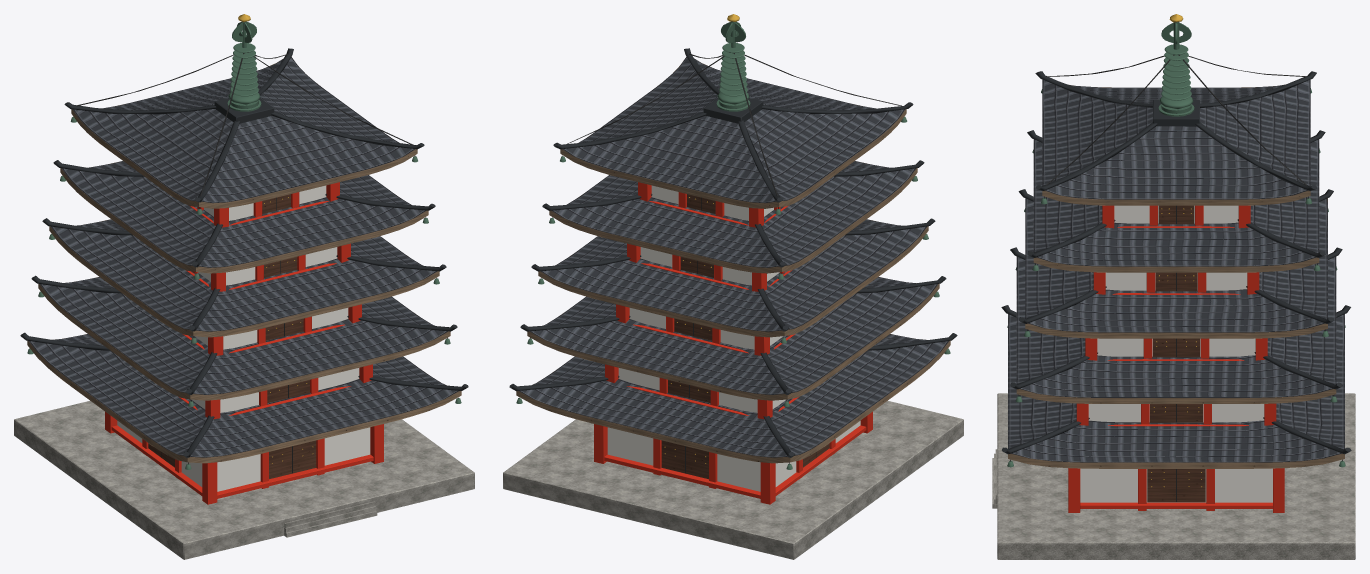
The model's file is build-red-pagoda.glb.
3 renders of one model, left to right at view 1: azimuth 30°, elevation 25°; view 2: azimuth 150°, elevation 25°; view 3: azimuth 270°, elevation 25°, orthographic. The views are drawn at different scales.
Parts seen in each view (by area): view 1: build-red-pagoda-Five_Story_Pagoda; view 2: build-red-pagoda-Five_Story_Pagoda; view 3: build-red-pagoda-Five_Story_Pagoda.
Part boxes in pixels (<box>): build-red-pagoda-Five_Story_Pagoda: <box>14,14,474,559</box>; build-red-pagoda-Five_Story_Pagoda: <box>503,14,963,559</box>; build-red-pagoda-Five_Story_Pagoda: <box>992,14,1355,559</box>.
Bounding box in the file's own units: 4.05 × 5.96 × 4.16.
5 materials, 4 textured.
